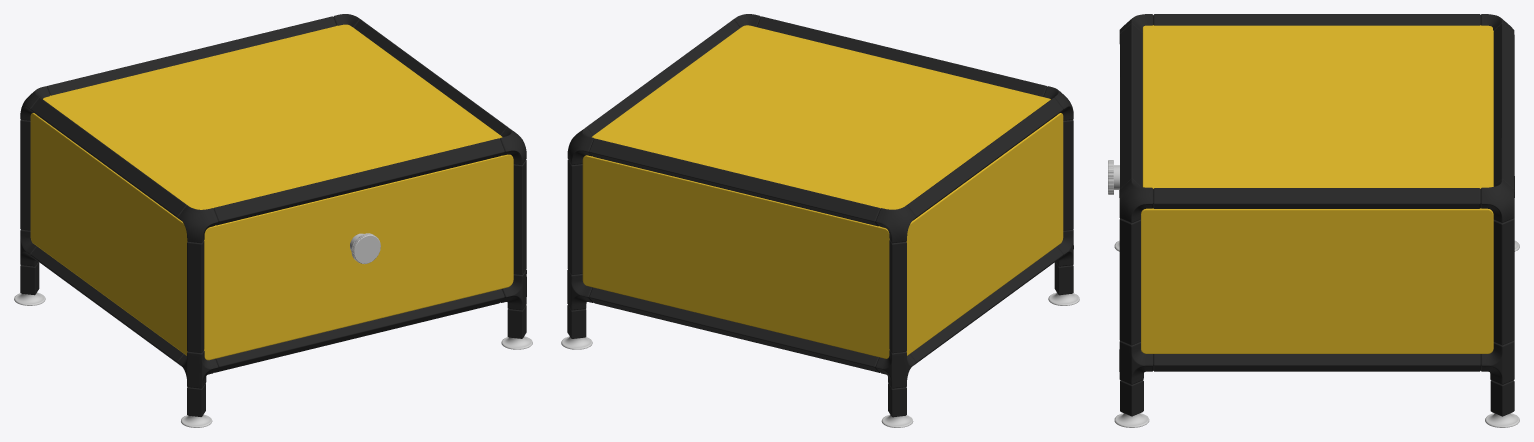
3 views of the same model, side by side, from view 1: azimuth 30°, elevation 25°; view 2: azimuth 150°, elevation 25°; view 3: azimuth 270°, elevation 25° (orthographic). The views are drawn at different scales.
Parts seen in each view (by area): view 1: 420x374x154; view 2: 420x374x154; view 3: 420x374x154.
Part boxes in pixels (x1,y1,x2,y2): 420x374x154: (14, 14, 532, 427); 420x374x154: (561, 14, 1079, 427); 420x374x154: (1108, 14, 1519, 427).
Size of the model in its own units: 0.5099 by 0.2933 by 0.4706.
